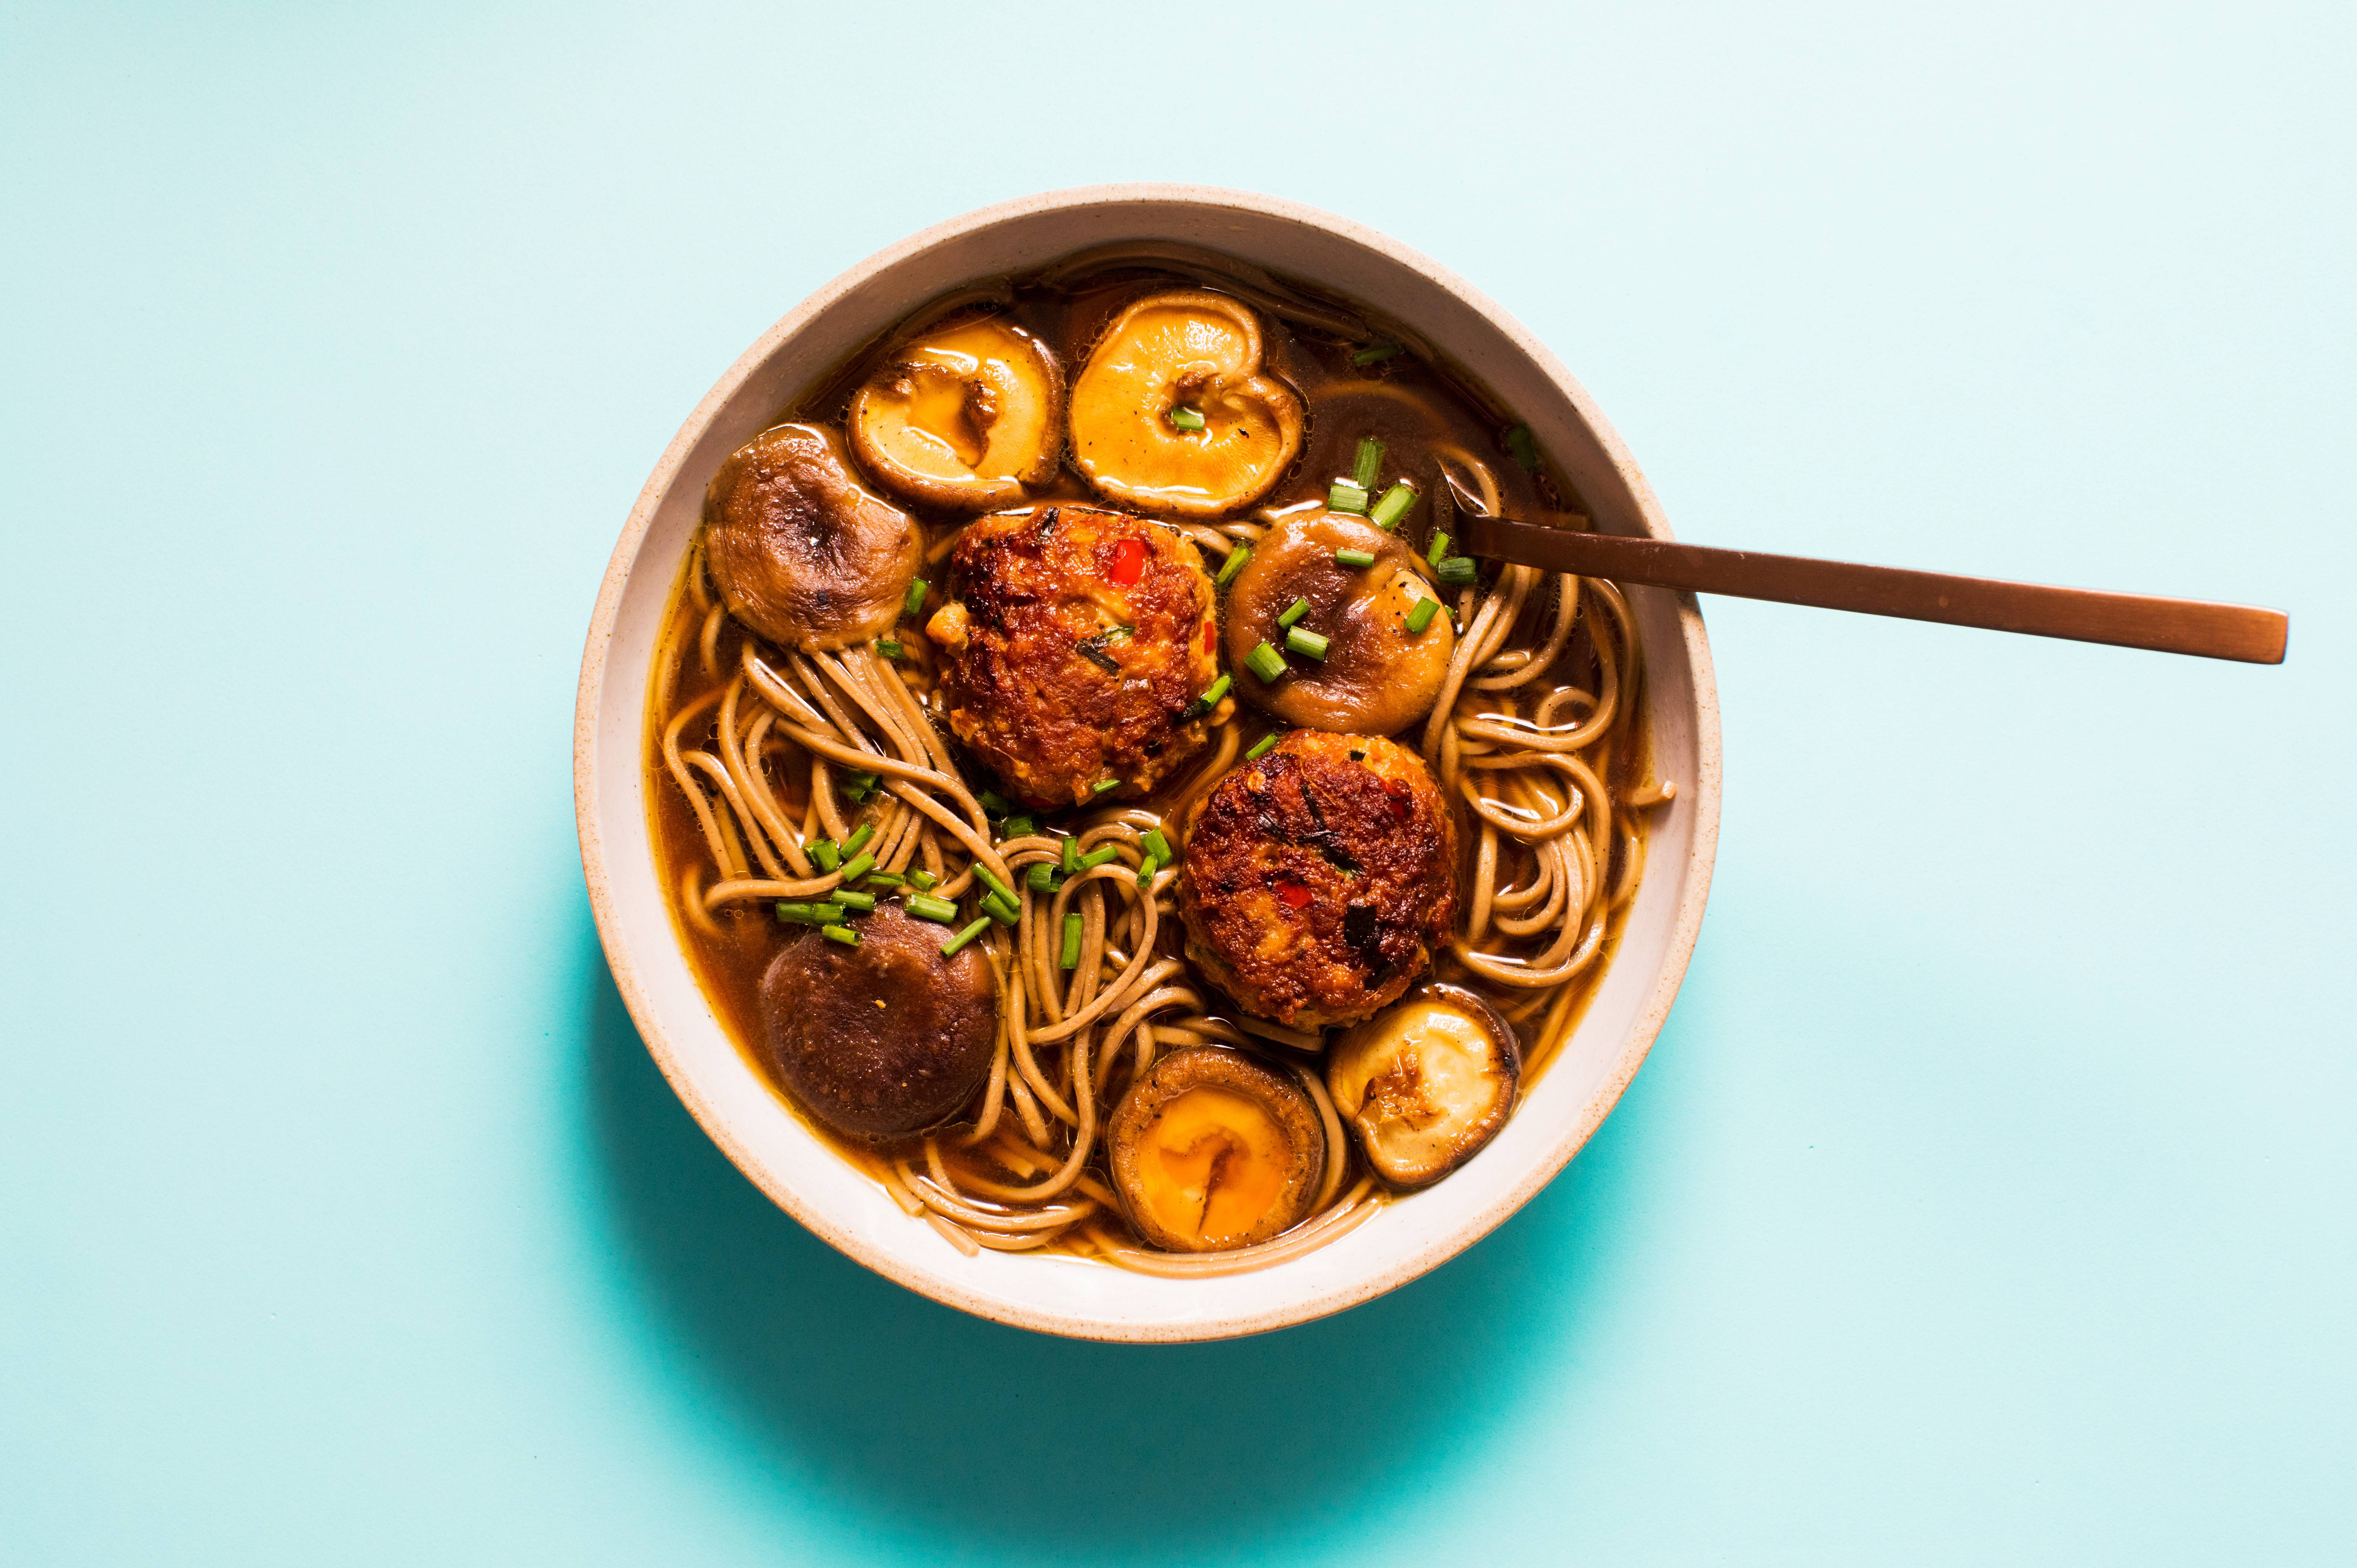meatballs: (1190, 738, 1430, 1008), (952, 542, 1211, 784), (737, 928, 1004, 1123)
plain spaghetti: (1440, 588, 1645, 994), (695, 653, 957, 905), (1003, 840, 1174, 1209)
